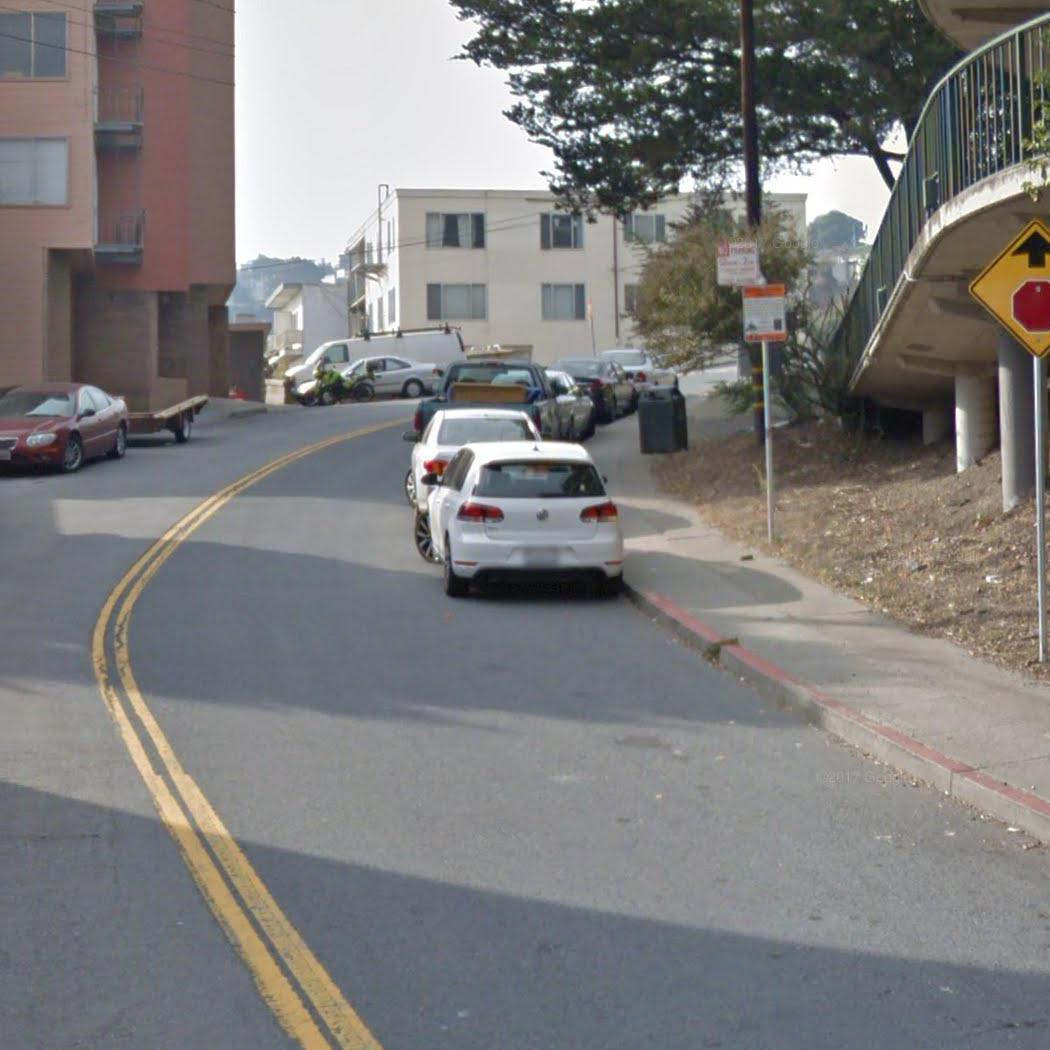No Parking: (714, 238, 761, 288)
